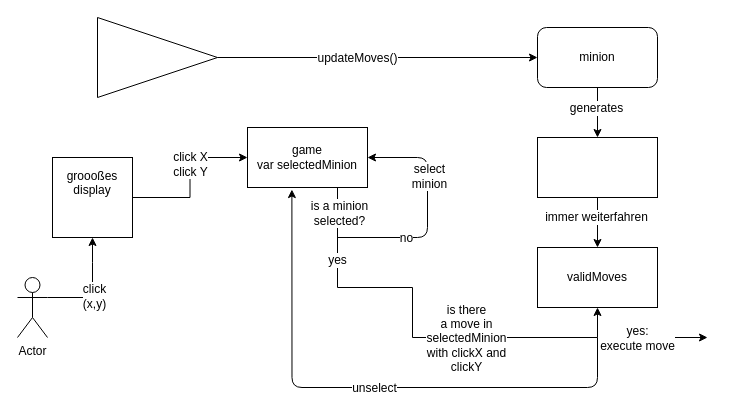
The diagram is 733 pixels wide and 413 high, and some of its shapes have lost their labels. Each missing label, with the centre of its shape:
next Turn: the point at 157,57
pseudoMoves: the point at 597,167
